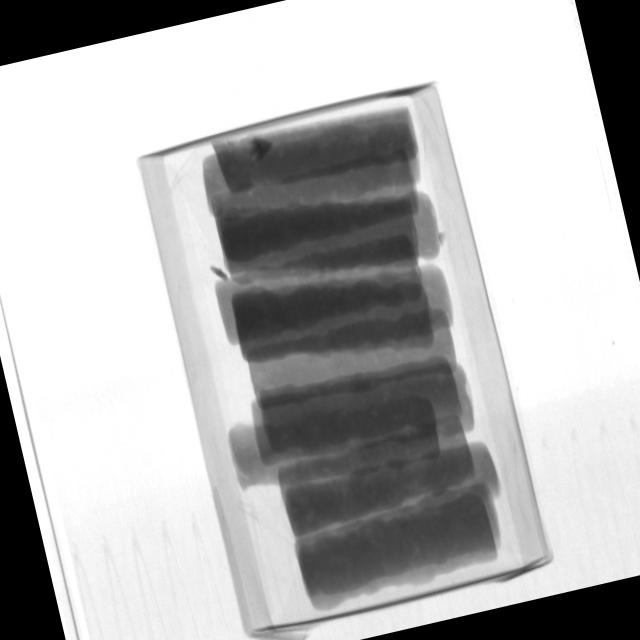ym: (250, 136, 276, 163), (209, 261, 230, 286), (437, 230, 450, 247)
